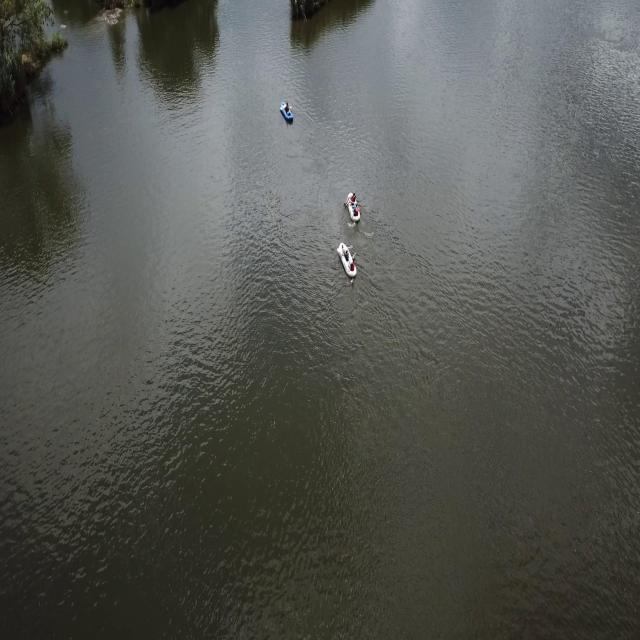kayak: (337, 238, 359, 282), (342, 190, 365, 227), (279, 101, 295, 126)
